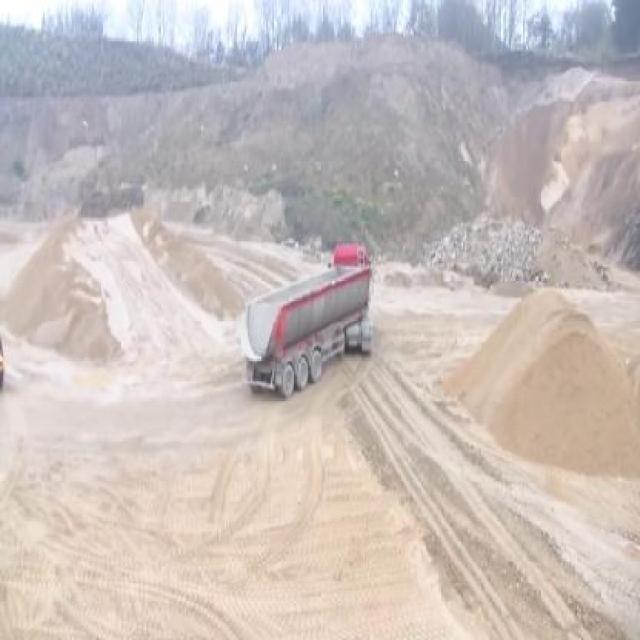Dump Truck: (238, 241, 374, 396)
